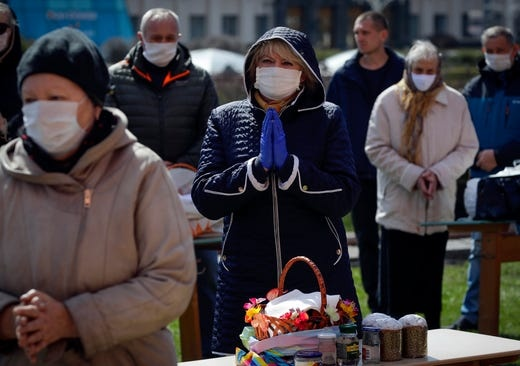with_mask: (12, 72, 105, 158), (245, 41, 310, 104), (141, 13, 180, 65), (480, 36, 515, 70), (410, 53, 441, 89)
without_mask: (352, 16, 390, 53)
